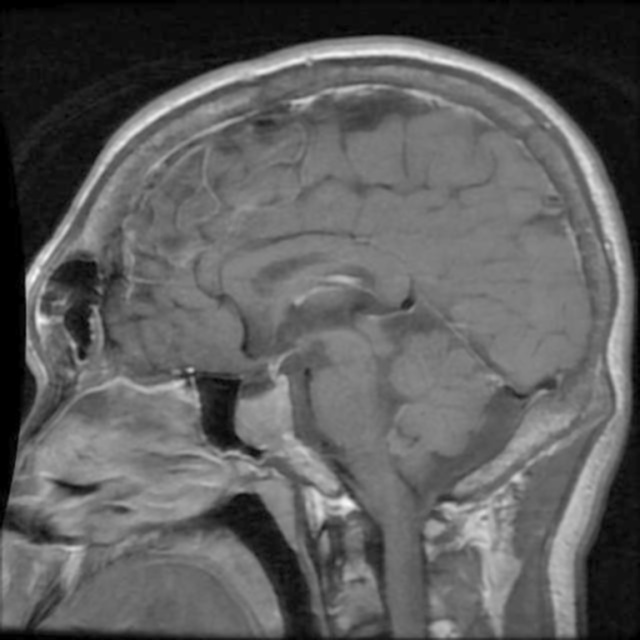no tumor: (224, 363, 302, 455)
